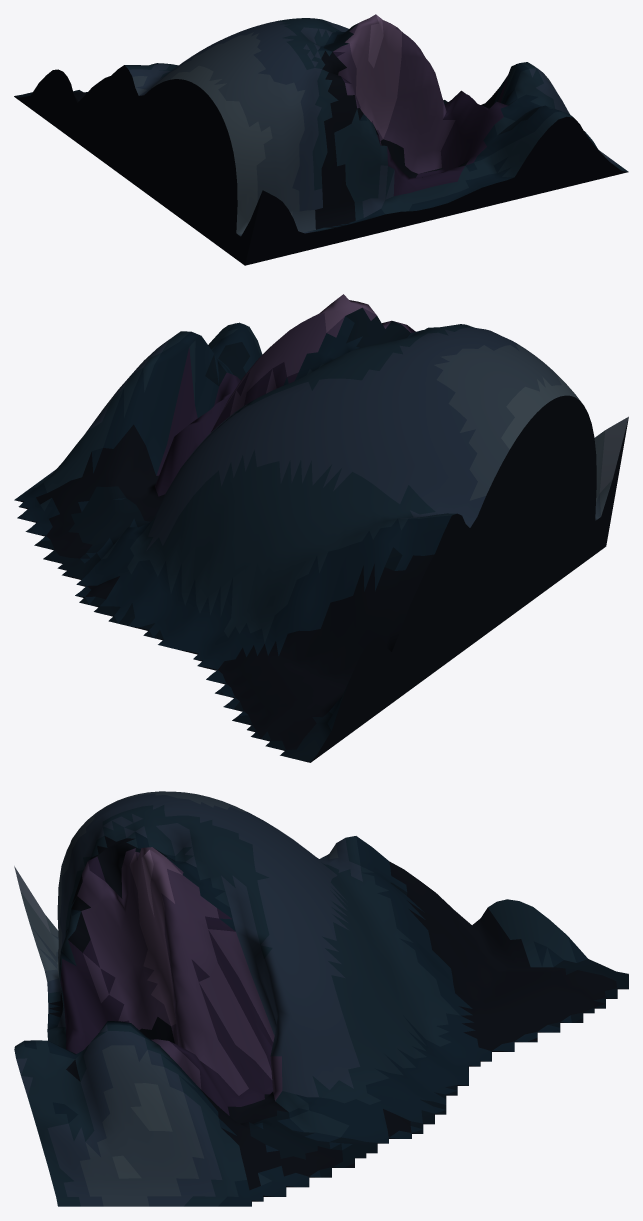
File: gyges_maw_7.glb
The picture shows the model from 3 angles, top to bottom: view 1: azimuth 30°, elevation 25°; view 2: azimuth 150°, elevation 25°; view 3: azimuth 270°, elevation 25°; orthographic projection. The views are drawn at different scales.
Visible parts, largest first — view 1: gyges_maw_7; view 2: gyges_maw_7; view 3: gyges_maw_7.
Part boxes in pixels (<box>): gyges_maw_7: <box>14,14,628,265</box>; gyges_maw_7: <box>14,294,628,762</box>; gyges_maw_7: <box>14,791,628,1206</box>.
Size of the model in its own units: 24 by 10.95 by 26.92.
